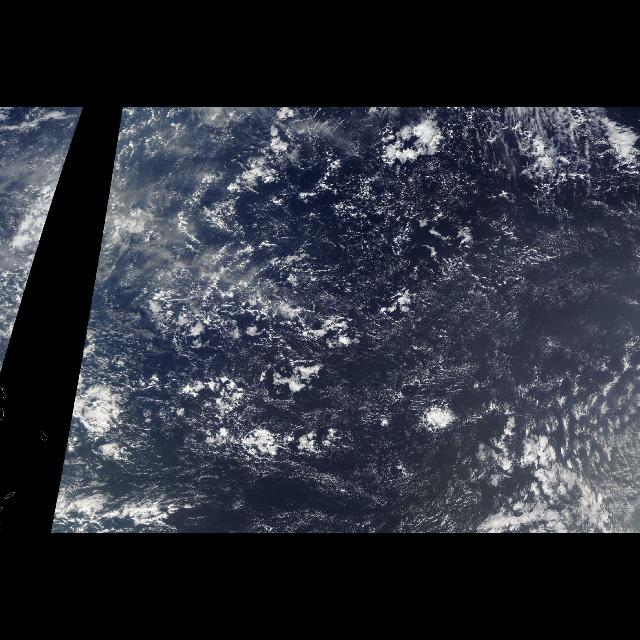Gravel: (115, 115, 639, 408), (470, 387, 640, 533)
Sugar: (272, 220, 640, 532)
